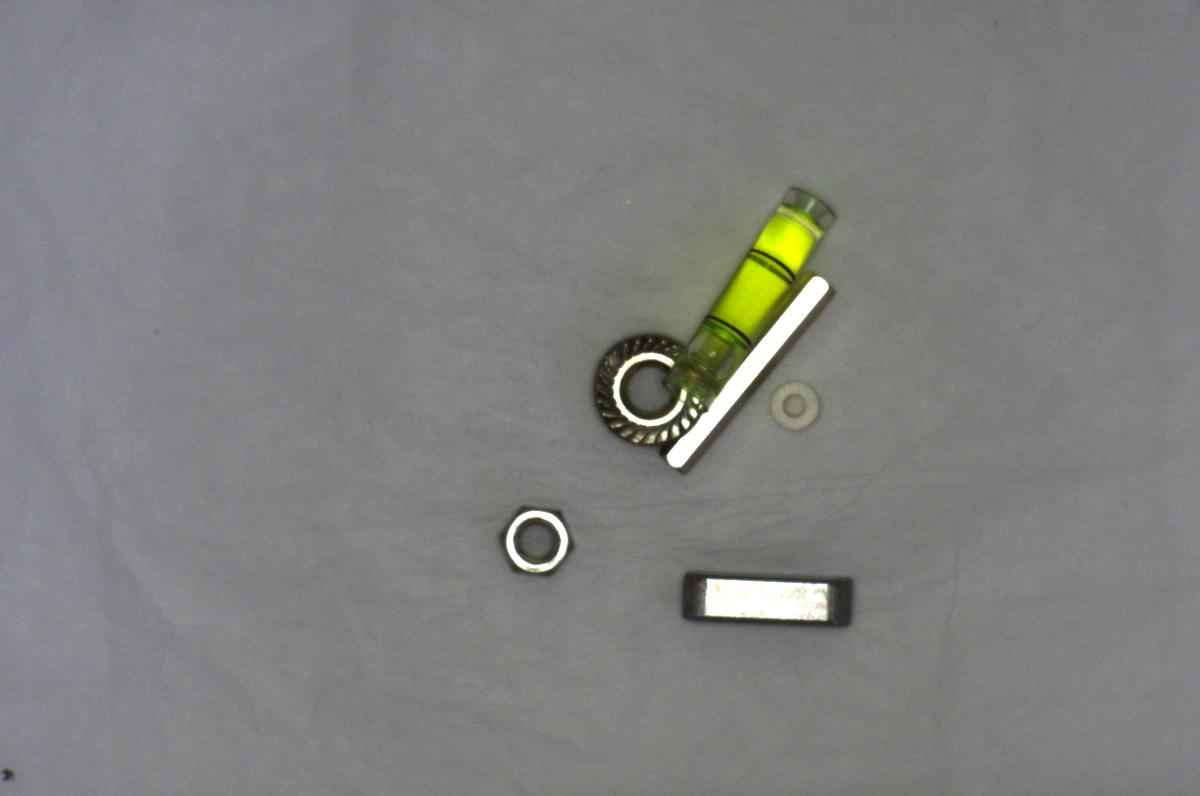Double hexagonal column: (647, 265, 856, 478)
Flange nut: (571, 322, 712, 451)
Hexagon nut: (487, 495, 589, 589)
Horizontal bubble: (657, 189, 841, 376)
Keybar: (665, 554, 867, 640)
Plastic cushion pillar: (760, 374, 823, 433)
